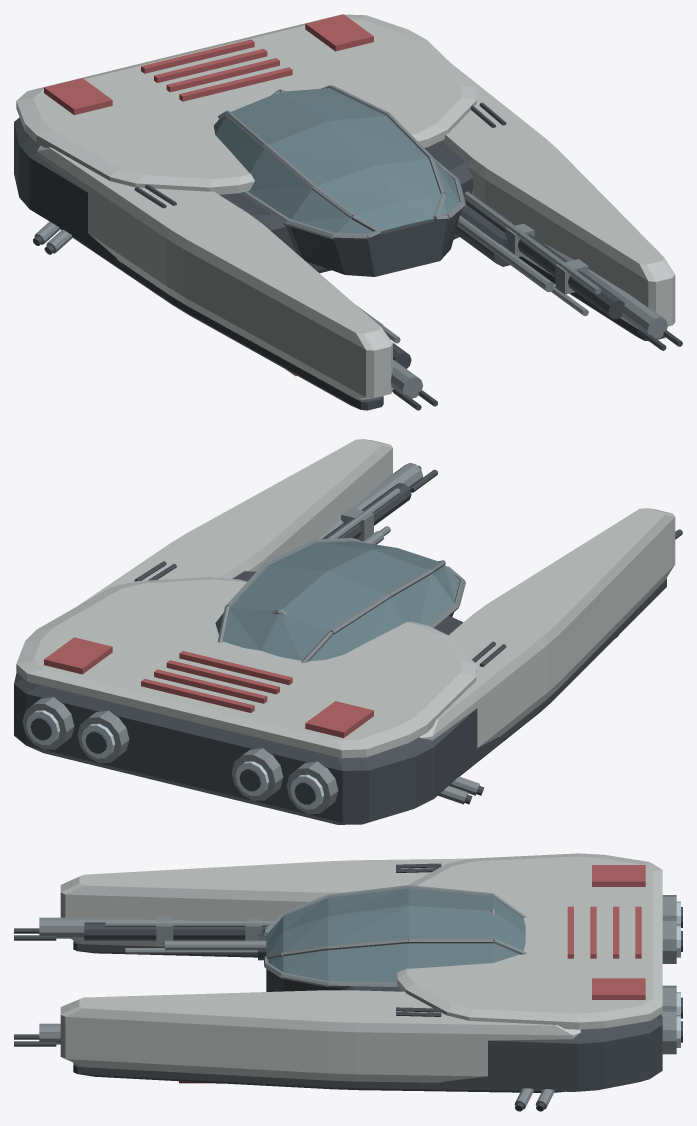
Rendered from x6_white_off.glb.
3 renders of one model, top to bottom at view 1: azimuth 30°, elevation 25°; view 2: azimuth 150°, elevation 25°; view 3: azimuth 270°, elevation 25°, orthographic. The views are drawn at different scales.
Visible parts, largest first — view 1: material_1, material_4, material_0, material_2, material_3; view 2: material_1, material_0, material_4, material_2, material_3, material_5; view 3: material_1, material_0, material_4, material_2, material_3, material_5.
Boxes of the visible parts, <box> form: material_1: <box>16,14,675,399</box>; material_4: <box>213,88,459,233</box>; material_0: <box>14,102,682,410</box>; material_2: <box>34,85,667,398</box>; material_3: <box>44,14,373,376</box>; material_1: <box>16,439,675,758</box>; material_0: <box>14,465,682,824</box>; material_4: <box>215,541,459,660</box>; material_2: <box>22,463,479,814</box>; material_3: <box>44,635,618,738</box>; material_5: <box>26,710,324,809</box>; material_1: <box>60,853,662,1082</box>; material_0: <box>14,863,682,1111</box>; material_4: <box>266,888,525,982</box>; material_2: <box>39,885,676,1109</box>; material_3: <box>179,865,645,1083</box>; material_5: <box>676,901,680,1047</box>.
Bounding box in the file's own units: 3.18 × 0.8789 × 4.75.
